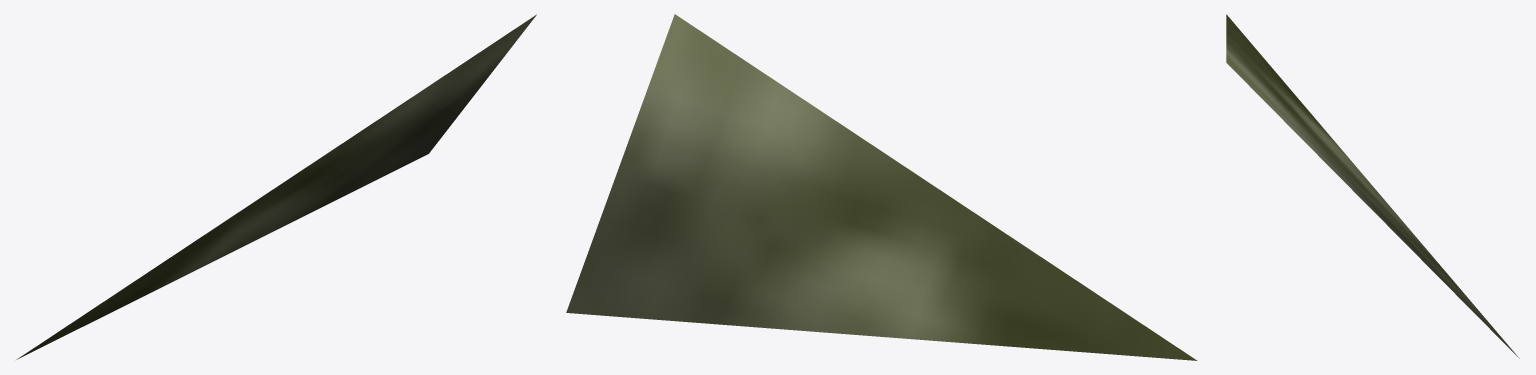
3 views of the same model, side by side, from view 1: azimuth 30°, elevation 25°; view 2: azimuth 150°, elevation 25°; view 3: azimuth 270°, elevation 25° (orthographic). The views are drawn at different scales.
Size of the model in its own units: 0.5851 by 0.2345 by 0.2105.
Materials: 1 (1 with a texture image).
